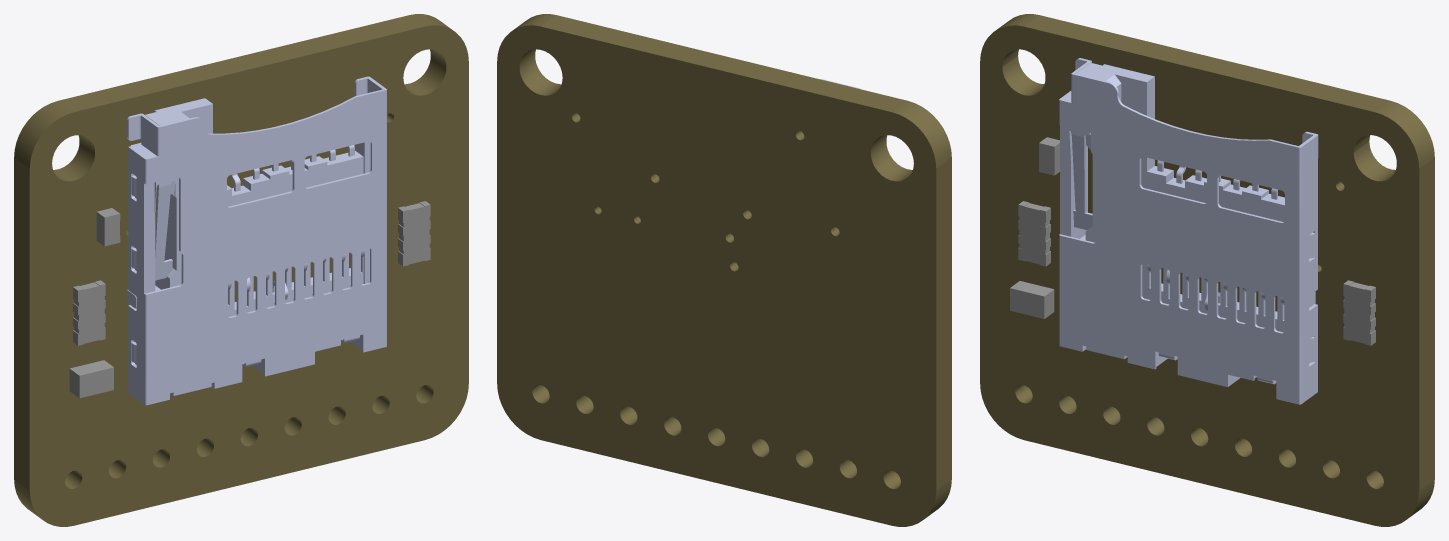
File: 4682 Micro SD Breakout.glb
The picture shows the model from 3 angles, left to right: view 1: azimuth 30°, elevation 25°; view 2: azimuth 150°, elevation 25°; view 3: azimuth 330°, elevation 25°; orthographic projection.
Parts seen in each view (by area): view 1: Board, MICROSD, RESPACK_4X0603 (×2), 0805-NO, 0603-NO; view 2: Board; view 3: Board, MICROSD, RESPACK_4X0603 (×2), 0805-NO, 0603-NO.
Boxes of the visible parts, x1,y1,x2,y2 form: Board: [14, 14, 468, 526]; MICROSD: [127, 76, 386, 405]; RESPACK_4X0603 (×2): [73, 201, 430, 345]; 0805-NO: [69, 360, 113, 398]; 0603-NO: [96, 208, 120, 246]; Board: [497, 14, 951, 526]; Board: [980, 14, 1434, 526]; MICROSD: [1059, 58, 1318, 404]; RESPACK_4X0603 (×2): [1018, 201, 1375, 345]; 0805-NO: [1010, 281, 1054, 318]; 0603-NO: [1039, 137, 1059, 175].
Bounding box in the file's own units: 25.4 × 22.86 × 3.45.
